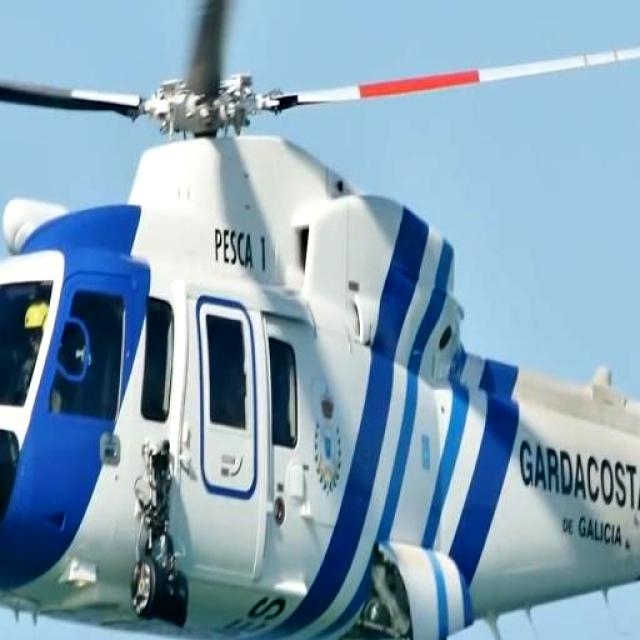drone: (0, 36, 640, 640)
